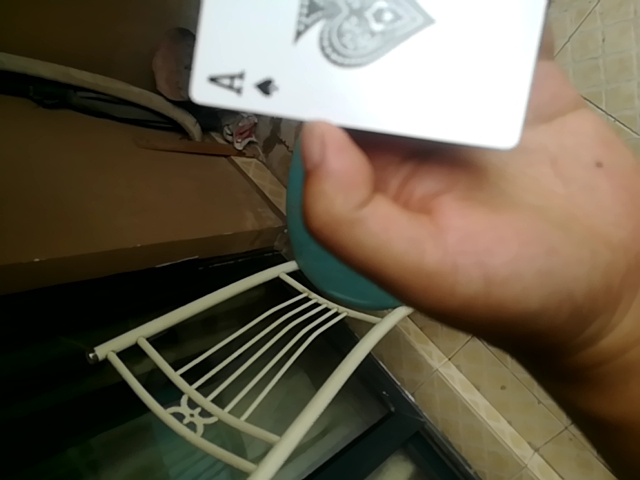ht a: (178, 1, 577, 151)
